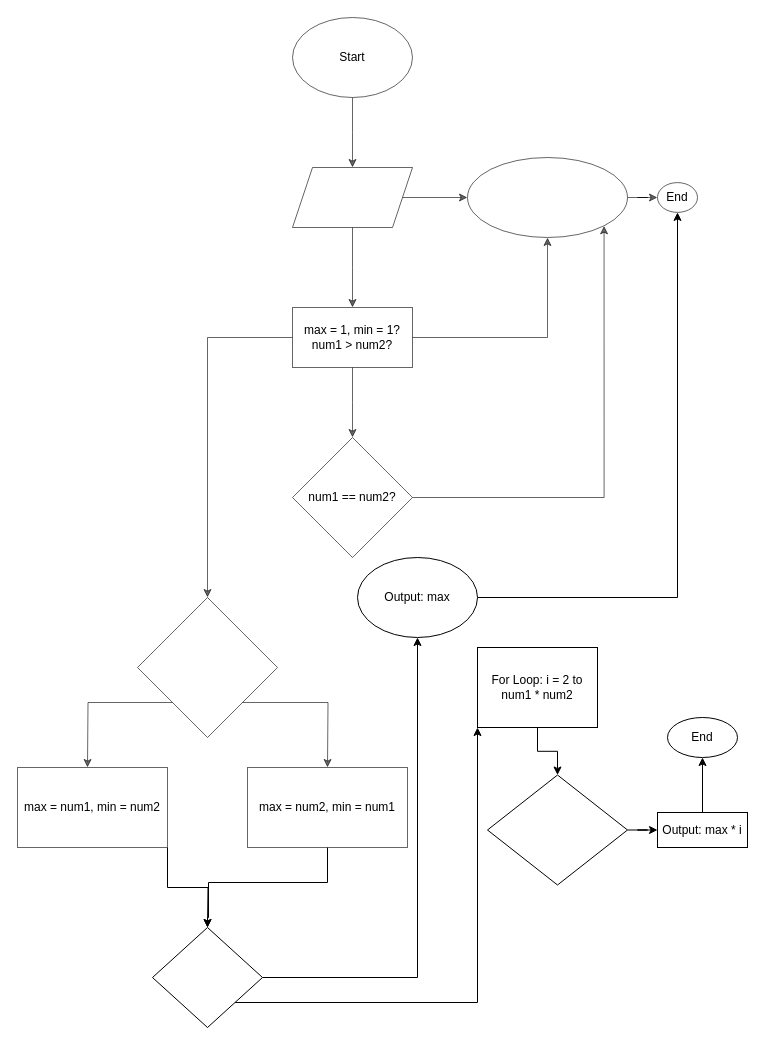
This 765x1045 diagram has some shape labels left out. The shapes that lost their labels are listed below. From the top down, each one's centre as x and y in pixels, then its label:
[352,197]: num1 ; num2
[547,197]: Output: Both numbers are equal
[207,667]: "num1 > num2?
[557,829]: (max * i) % min == 0?
[207,977]: max % min == 0?
